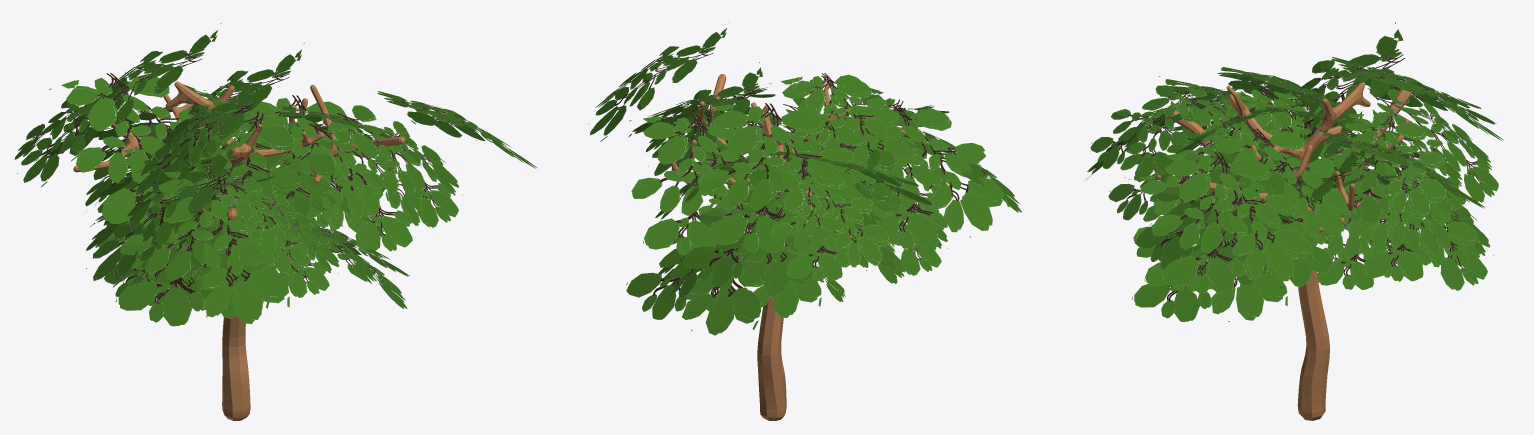
The model's file is oaktree.fbx.
The picture shows the model from 3 angles, left to right: view 1: azimuth 30°, elevation 25°; view 2: azimuth 150°, elevation 25°; view 3: azimuth 270°, elevation 25°; orthographic projection. The views are drawn at different scales.
Parts seen in each view (by area): view 1: Tree|Leaf.005|Dupli|5, Tree|Leaf.005|Dupli|23, Tree, Tree|Leaf.005|Dupli|9, Tree|Leaf.005|Dupli|13, Tree|Leaf.005|Dupli|31, Tree|Leaf.005|Dupli|43, Tree|Leaf.005|Dupli|32, Tree|Leaf.005|Dupli|14, Tree|Leaf.005|Dupli|22, Tree|Leaf.005|Dupli|44, Tree|Leaf.005|Dupli|41 (+15 smaller); view 2: Tree|Leaf.005|Dupli|44, Tree|Leaf.005|Dupli|31, Tree|Leaf.005|Dupli|2, Tree|Leaf.005|Dupli|22, Tree|Leaf.005|Dupli|41, Tree|Leaf.005|Dupli|46, Tree|Leaf.005|Dupli|16, Tree, Tree|Leaf.005|Dupli|4, Tree|Leaf.005|Dupli|42, Tree|Leaf.005|Dupli|12, Tree|Leaf.005|Dupli|21 (+14 smaller); view 3: Tree|Leaf.005|Dupli|4, Tree, Tree|Leaf.005|Dupli|25, Tree|Leaf.005|Dupli|12, Tree|Leaf.005|Dupli|32, Tree|Leaf.005|Dupli|13, Tree|Leaf.005|Dupli|49, Tree|Leaf.005|Dupli|40, Tree|Leaf.005|Dupli|46, Tree|Leaf.005|Dupli|16, Tree|Leaf.005|Dupli|23, Tree|Leaf.005|Dupli|45 (+21 smaller).
Part boxes in pixels (<box>): Tree|Leaf.005|Dupli|5: <box>115,171,289,326</box>; Tree|Leaf.005|Dupli|23: <box>49,73,229,226</box>; Tree: <box>73,81,405,420</box>; Tree|Leaf.005|Dupli|9: <box>291,121,429,253</box>; Tree|Leaf.005|Dupli|13: <box>326,105,462,227</box>; Tree|Leaf.005|Dupli|31: <box>86,141,232,287</box>; Tree|Leaf.005|Dupli|43: <box>139,98,301,243</box>; Tree|Leaf.005|Dupli|32: <box>212,179,319,272</box>; Tree|Leaf.005|Dupli|14: <box>230,95,389,226</box>; Tree|Leaf.005|Dupli|22: <box>14,72,127,187</box>; Tree|Leaf.005|Dupli|44: <box>59,23,221,161</box>; Tree|Leaf.005|Dupli|41: <box>130,78,258,200</box>; Tree|Leaf.005|Dupli|44: <box>697,103,871,253</box>; Tree|Leaf.005|Dupli|31: <box>833,105,1009,249</box>; Tree|Leaf.005|Dupli|2: <box>629,114,780,255</box>; Tree|Leaf.005|Dupli|22: <box>756,169,894,281</box>; Tree|Leaf.005|Dupli|41: <box>769,75,919,191</box>; Tree|Leaf.005|Dupli|46: <box>626,182,776,335</box>; Tree|Leaf.005|Dupli|16: <box>681,159,828,297</box>; Tree: <box>671,74,917,420</box>; Tree|Leaf.005|Dupli|4: <box>588,22,729,141</box>; Tree|Leaf.005|Dupli|42: <box>781,73,906,171</box>; Tree|Leaf.005|Dupli|12: <box>645,62,762,175</box>; Tree|Leaf.005|Dupli|21: <box>679,204,824,318</box>; Tree|Leaf.005|Dupli|4: <box>1151,152,1315,293</box>; Tree: <box>1155,82,1411,420</box>; Tree|Leaf.005|Dupli|25: <box>1330,113,1448,223</box>; Tree|Leaf.005|Dupli|12: <box>1202,128,1357,248</box>; Tree|Leaf.005|Dupli|32: <box>1090,76,1196,182</box>; Tree|Leaf.005|Dupli|13: <box>1135,137,1285,269</box>; Tree|Leaf.005|Dupli|49: <box>1347,161,1482,281</box>; Tree|Leaf.005|Dupli|40: <box>1131,183,1287,321</box>; Tree|Leaf.005|Dupli|46: <box>1354,160,1493,290</box>; Tree|Leaf.005|Dupli|16: <box>1372,89,1498,202</box>; Tree|Leaf.005|Dupli|23: <box>1271,22,1404,167</box>; Tree|Leaf.005|Dupli|45: <box>1311,182,1428,289</box>.
Size of the model in its own units: 828 by 629 by 745.
